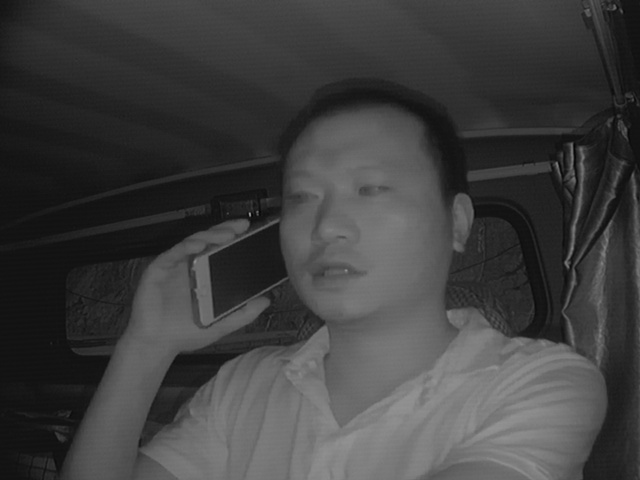hand: (136, 217, 265, 345)
